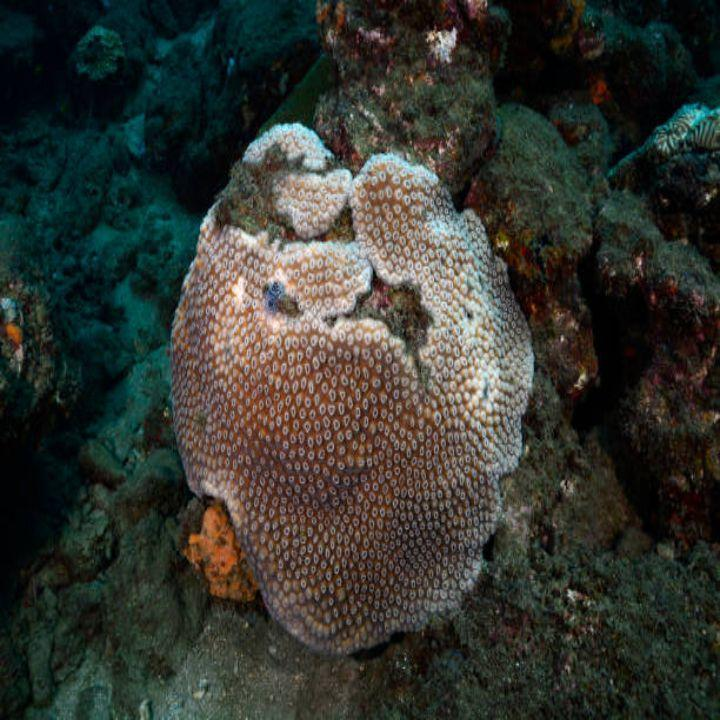Bleached-disease: (91, 105, 596, 693)
